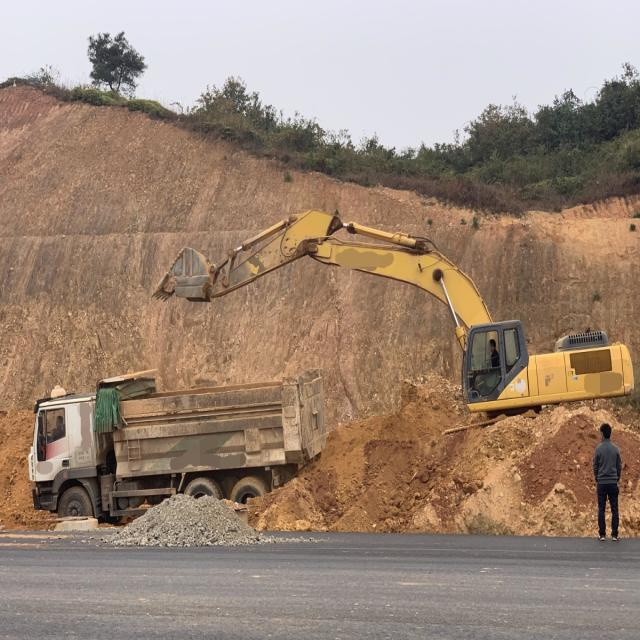excavator: (152, 209, 634, 436)
truck: (29, 368, 327, 523)
